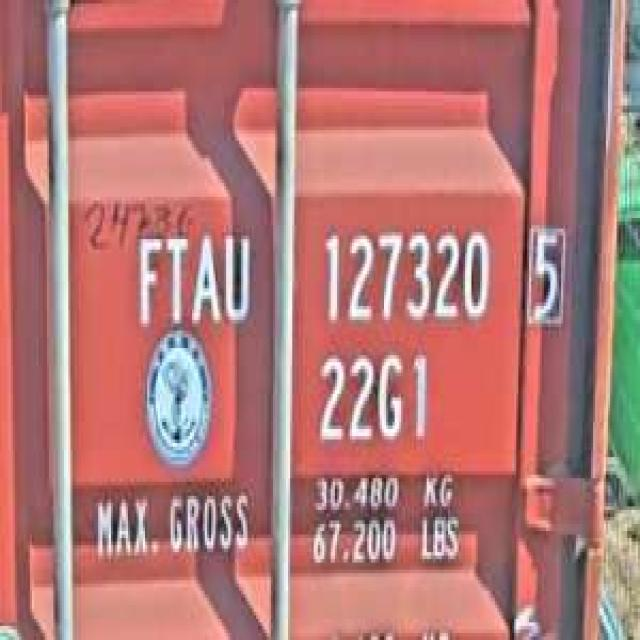dv: (522, 214, 570, 330)
owner: (132, 222, 254, 331)
serial: (314, 218, 495, 334)
size: (312, 341, 435, 457)
